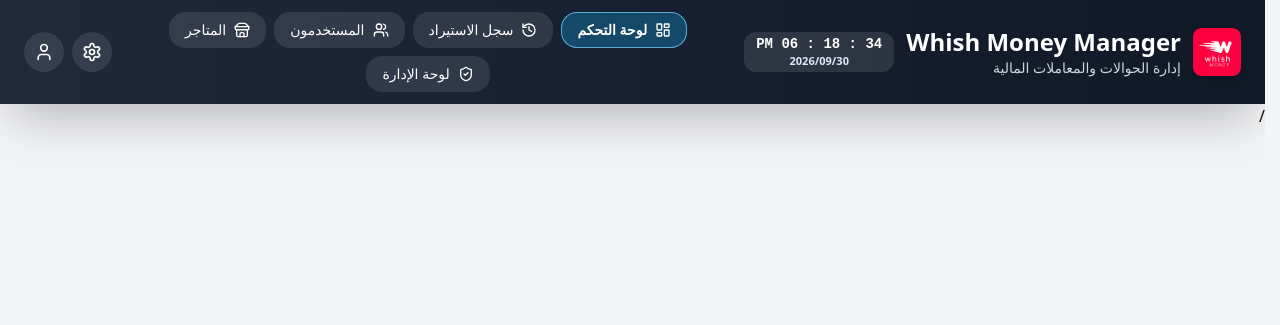
it: the account menu › Escape closes it and gives focus back to the button; Tab closes it
This screenshot has width=1280, height=325.
Click the button with test id "user-menu-button": [44, 52] box [24,32,64,72]
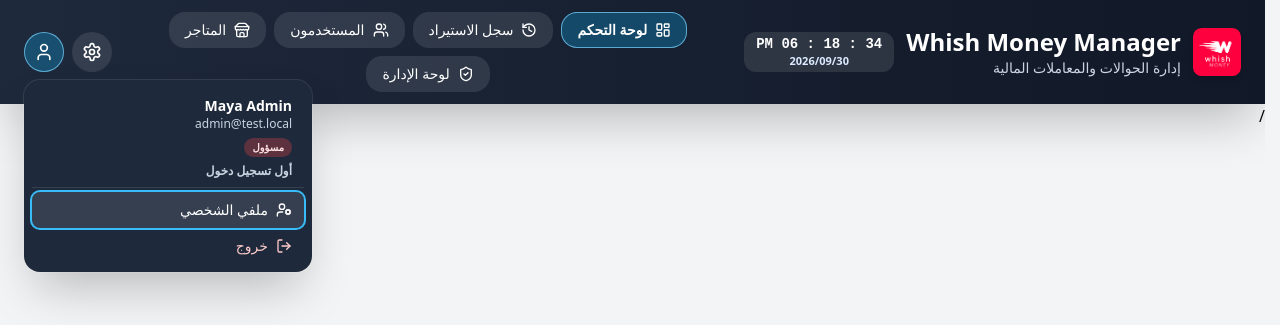
Press Escape in the menu item "ملفي الشخصي", box [32,192,304,228]
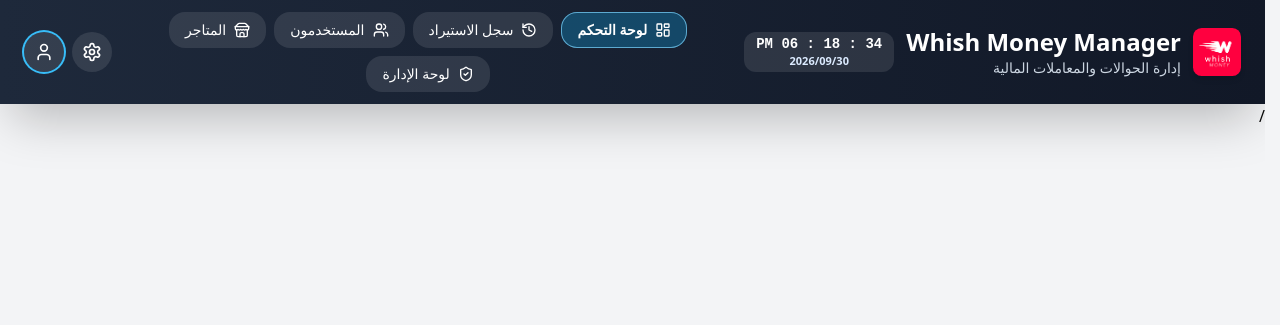
Expected: the menu is gone
Expected: the button with test id "user-menu-button" is collapsed
Click the button with test id "user-menu-button": [44, 52] box [24,32,64,72]
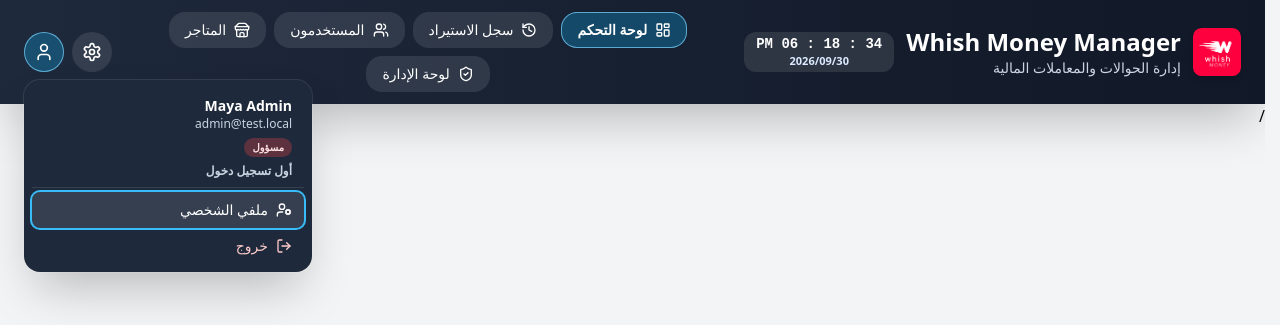
Press Tab in the menu item "ملفي الشخصي", box [32,192,304,228]
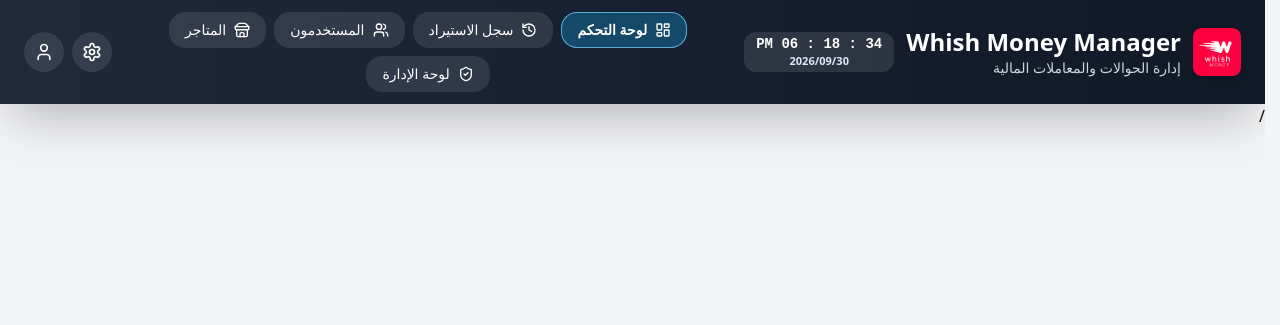
Expected: the menu is gone
